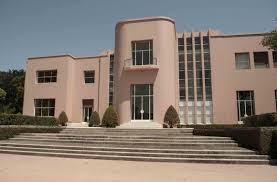serralves: (21, 15, 276, 128)
